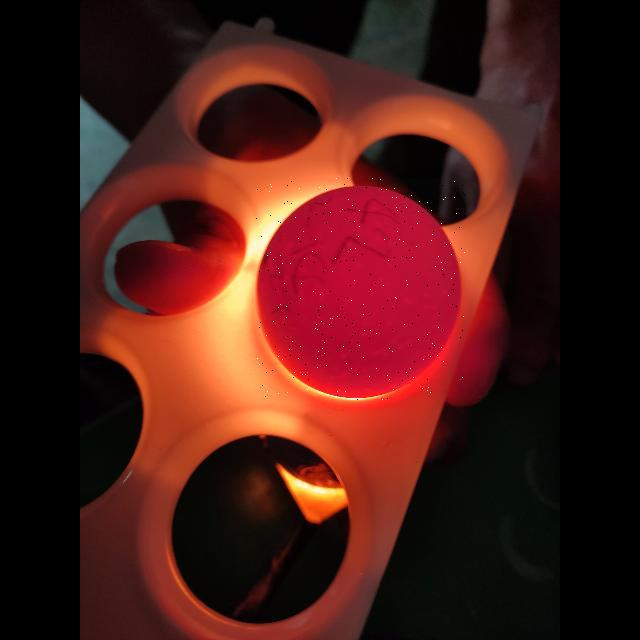A - Good: (255, 178, 465, 400)
